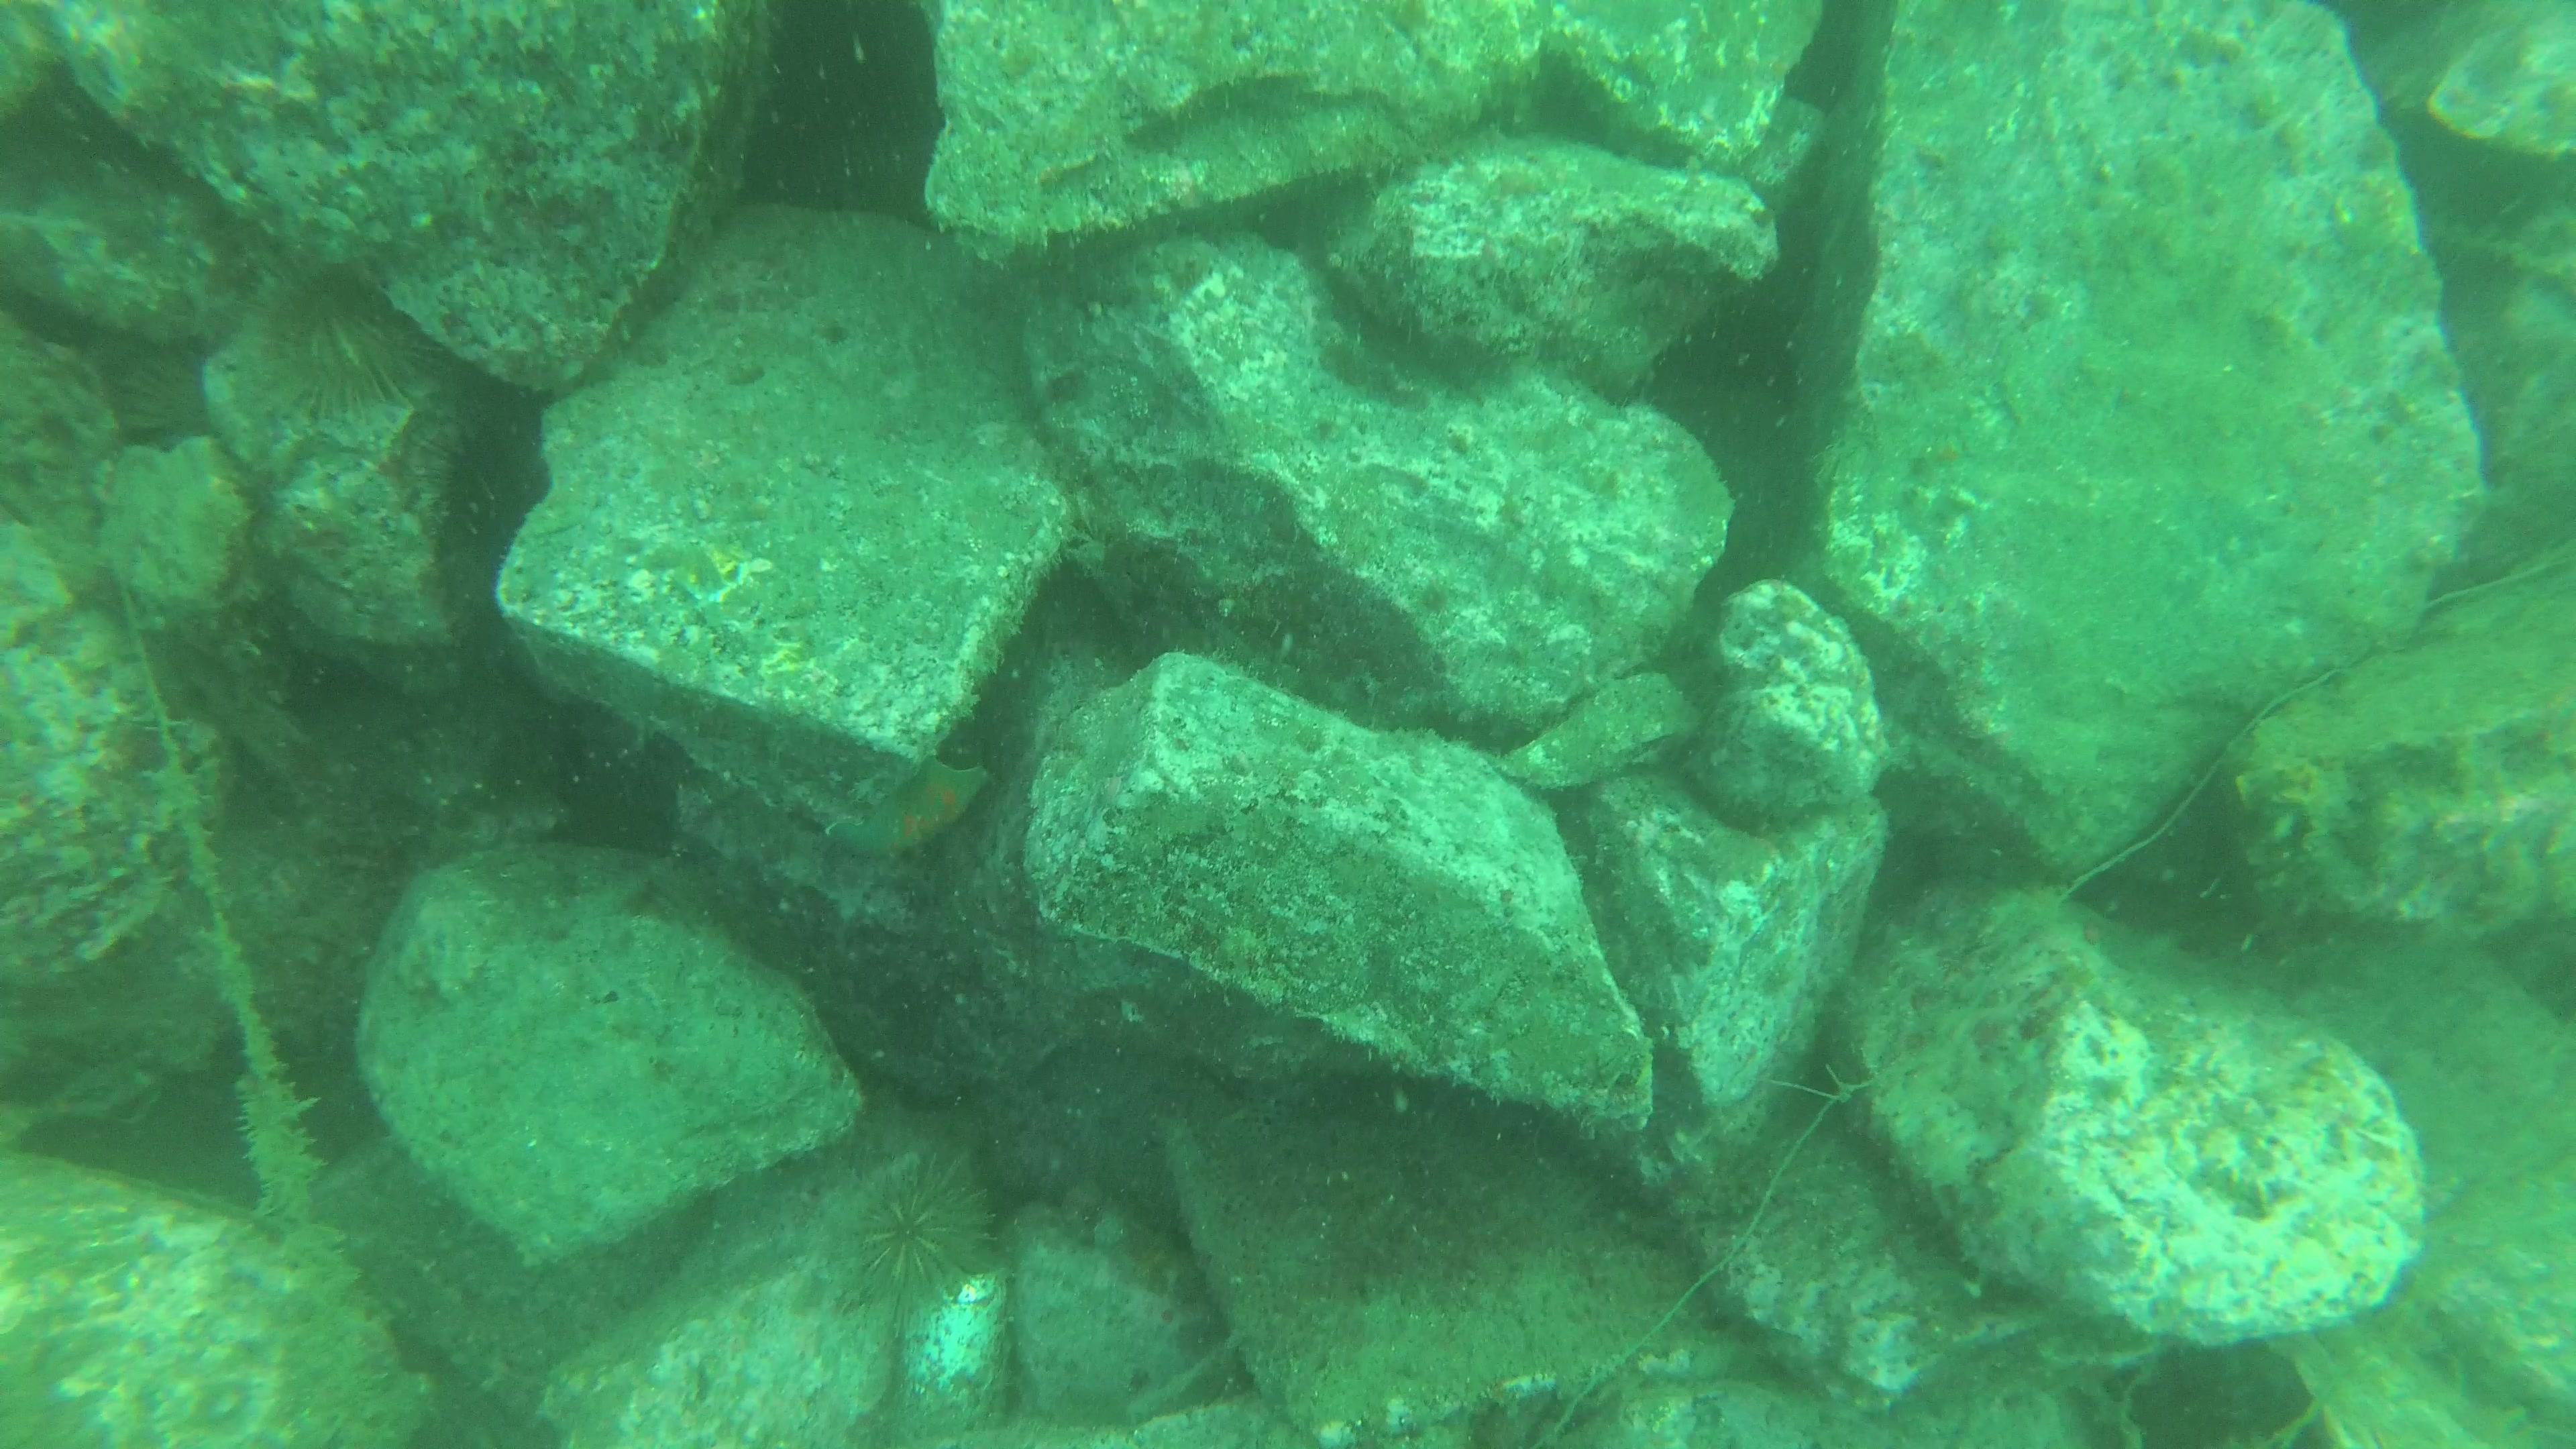echinus: (235, 258, 444, 433), (849, 1141, 1012, 1316)
starfish: (828, 752, 993, 870)
